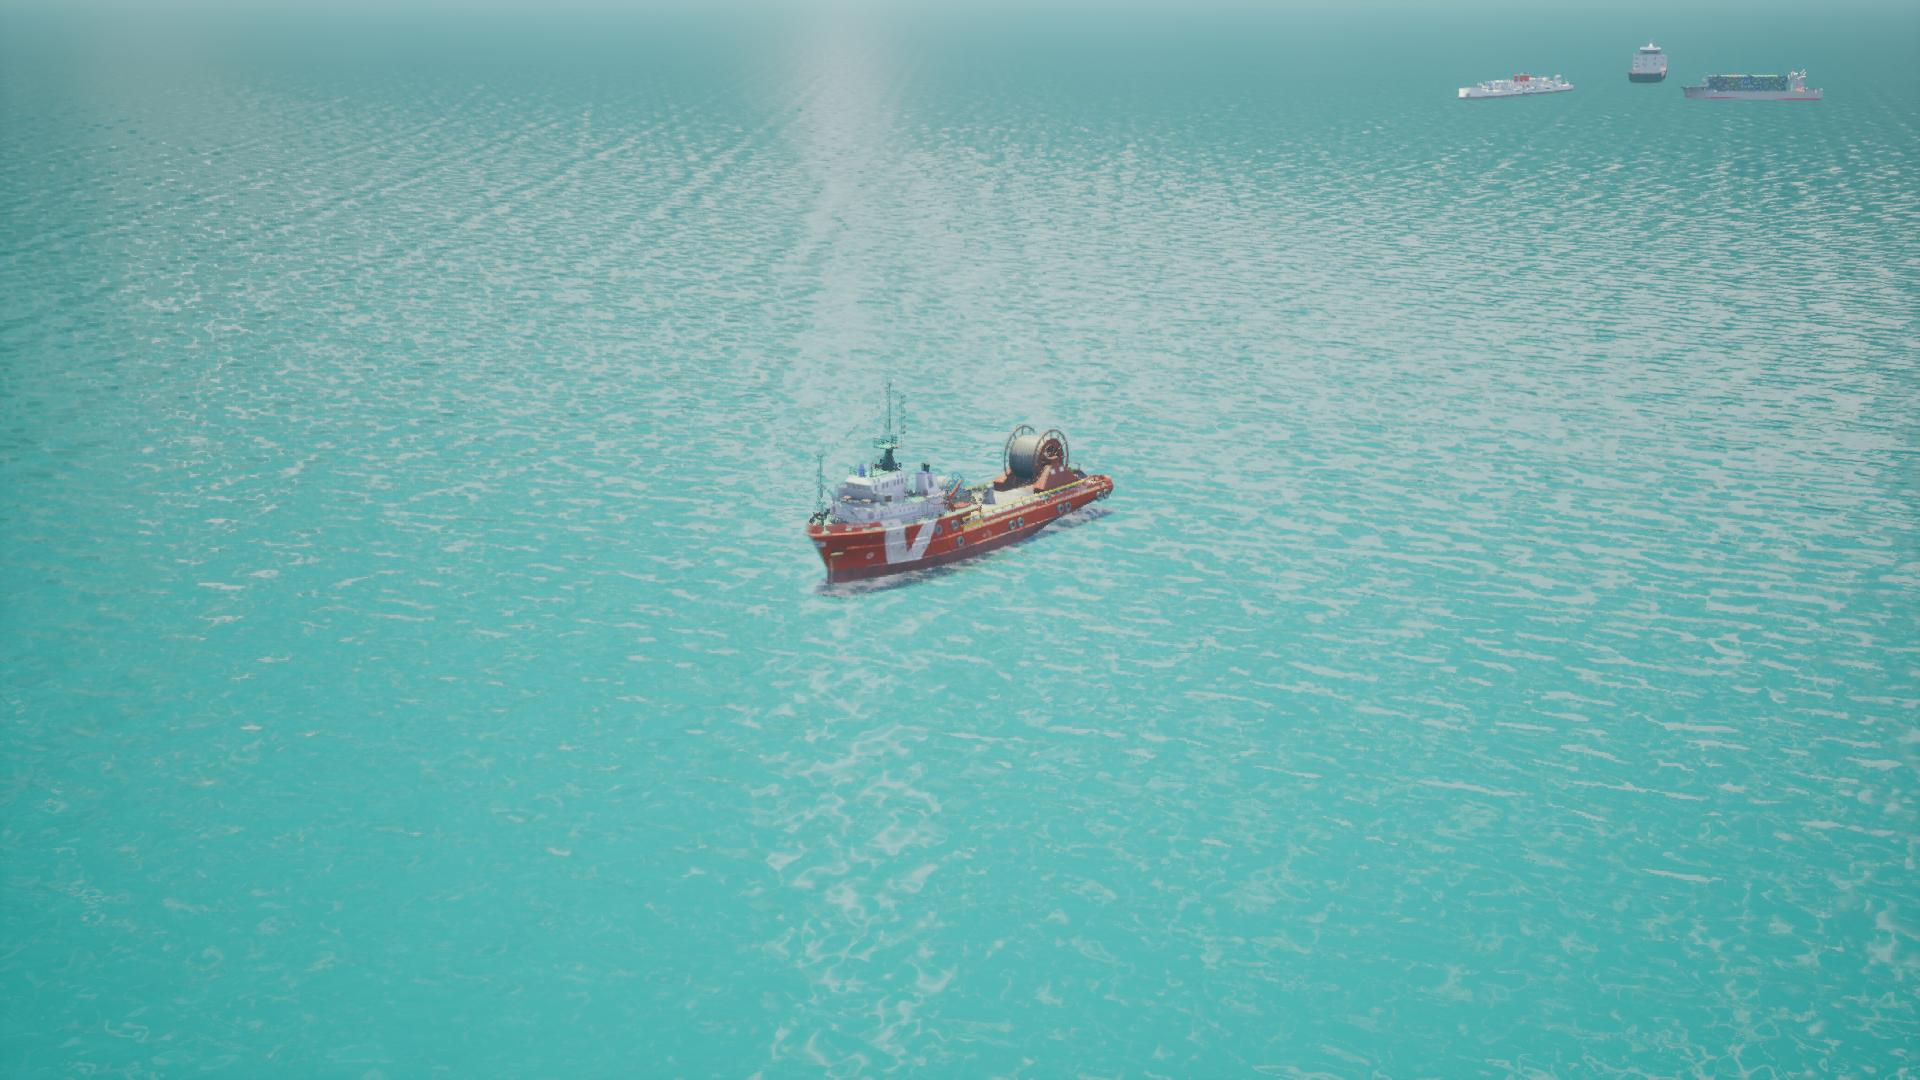Tug Boat: (797, 402, 1111, 595)
